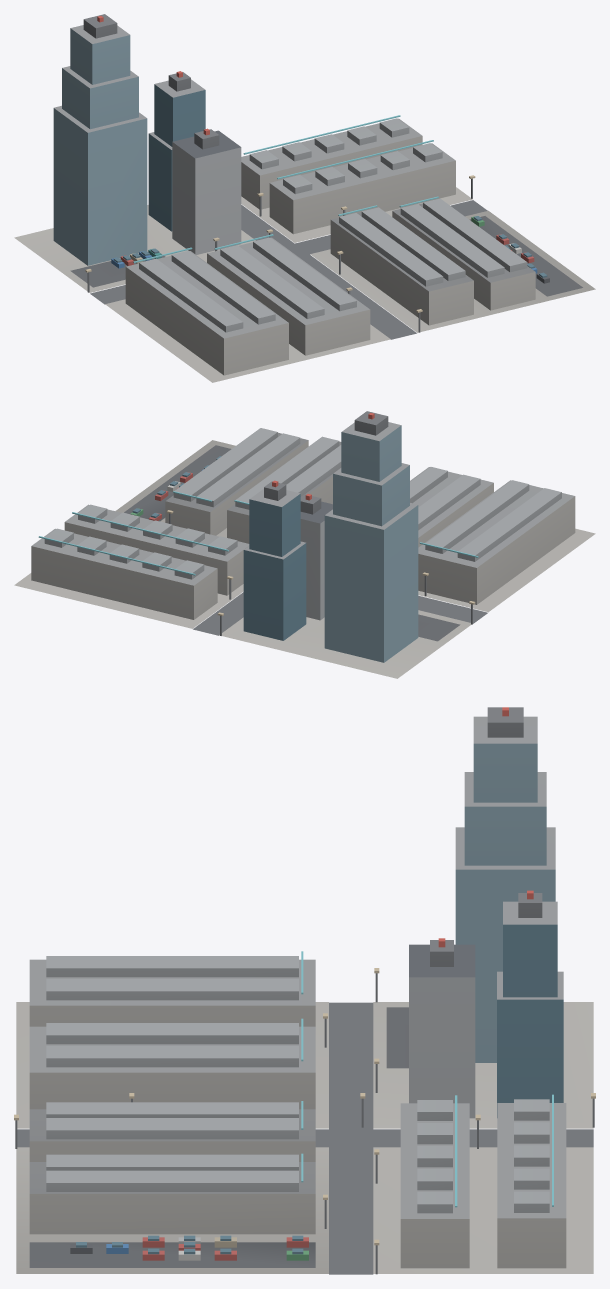
Rendered from district_tech_park.glb.
The picture shows the model from 3 angles, top to bottom: view 1: azimuth 30°, elevation 25°; view 2: azimuth 150°, elevation 25°; view 3: azimuth 270°, elevation 25°; orthographic projection. The views are drawn at different scales.
Parts seen in each view (by area): view 1: district_tech_park; view 2: district_tech_park; view 3: district_tech_park.
Boxes of the visible parts, x1,y1,x2,y2 form: district_tech_park: [14, 14, 595, 382]; district_tech_park: [14, 411, 595, 678]; district_tech_park: [14, 707, 595, 1274].
Bounding box in the file's own units: 117 × 66.35 × 105.
